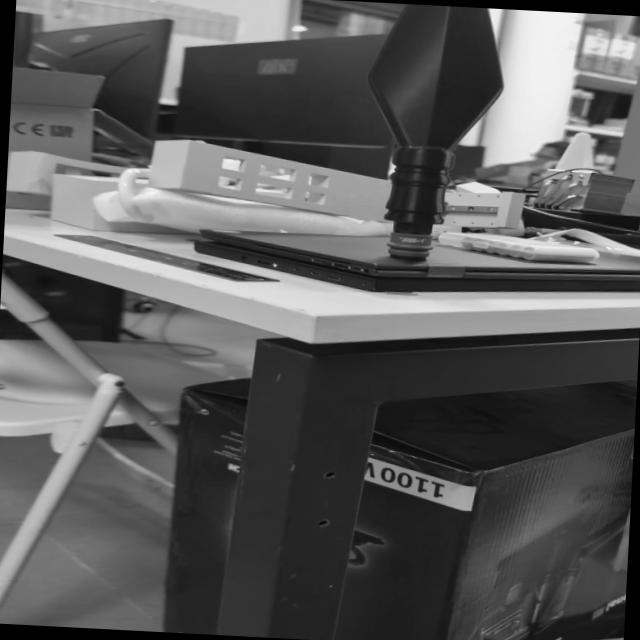base: (384, 229, 438, 267)
